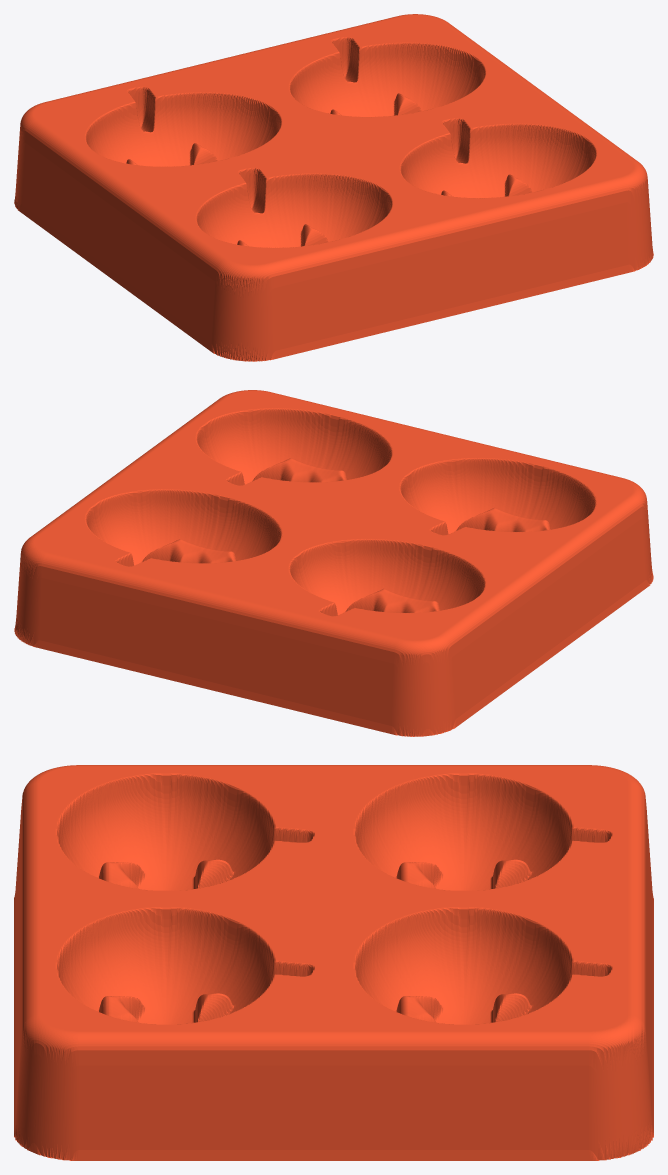
The model's file is mold.glb.
3 renders of one model, top to bottom at view 1: azimuth 30°, elevation 25°; view 2: azimuth 150°, elevation 25°; view 3: azimuth 270°, elevation 25°, orthographic. The views are drawn at different scales.
Parts seen in each view (by area): view 1: geometry_0; view 2: geometry_0; view 3: geometry_0.
Part boxes in pixels (box(x1,y1,x2,y2)): geometry_0: box(14, 14, 653, 361); geometry_0: box(14, 390, 653, 736); geometry_0: box(14, 765, 653, 1160).
Bounding box in the file's own units: 0.0942 × 0.0182 × 0.089.
